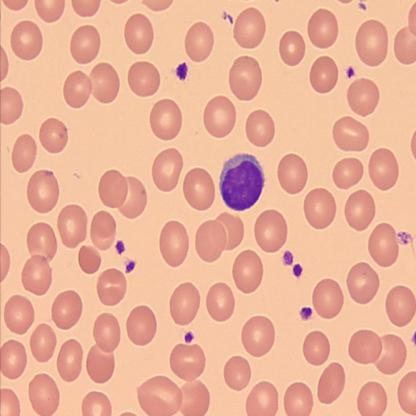Lymphocyte: (219, 151, 266, 213)
